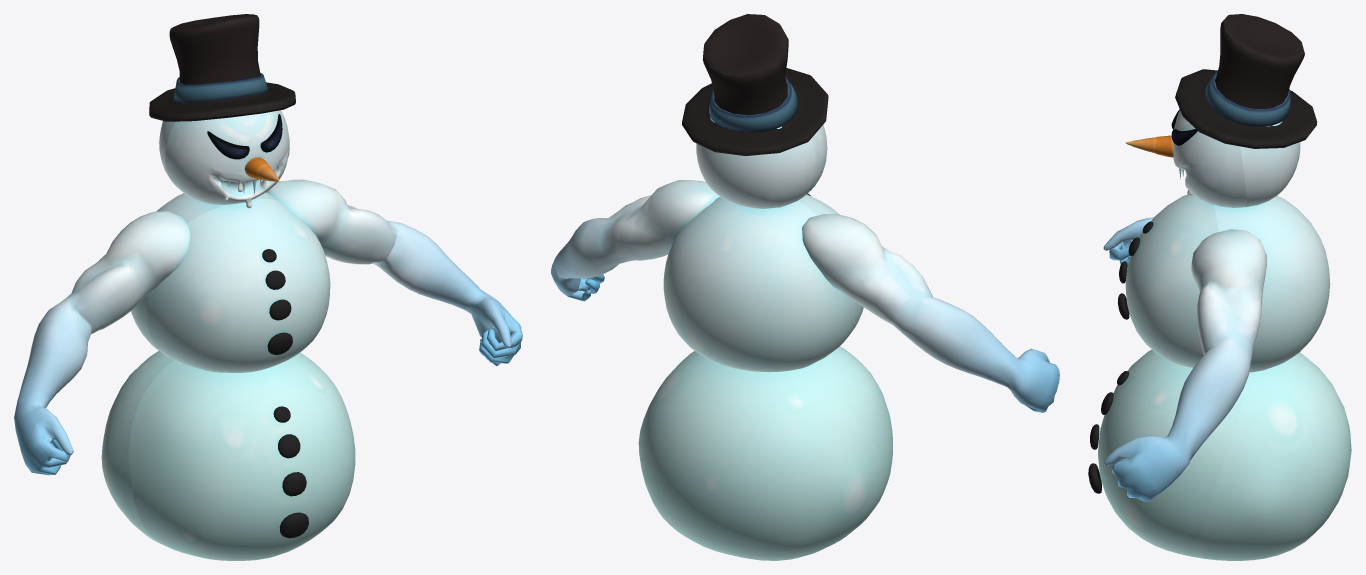
Rendered from boss_model.fbx.
3 views of the same model, side by side, from view 1: azimuth 30°, elevation 25°; view 2: azimuth 150°, elevation 25°; view 3: azimuth 270°, elevation 25° (orthographic).
Visible parts, largest first — view 1: boss; view 2: boss; view 3: boss.
Boxes of the visible parts, x1=… form: boss: x1=14, y1=14, x2=522, y2=560; boss: x1=551, y1=14, x2=1059, y2=560; boss: x1=1088, y1=14, x2=1351, y2=560.
Bounding box in the file's own units: 70.34 × 71.56 × 32.54.
Materials: 1 (1 with a texture image).
